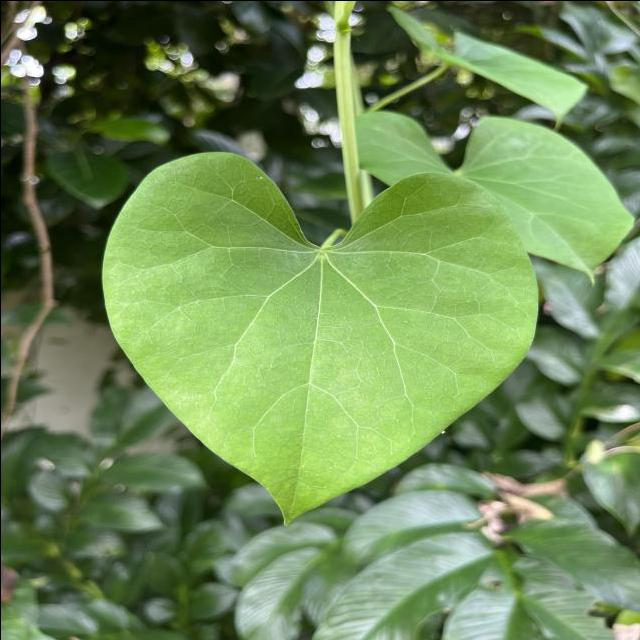Tinospora cordifolia: (94, 142, 548, 532)
